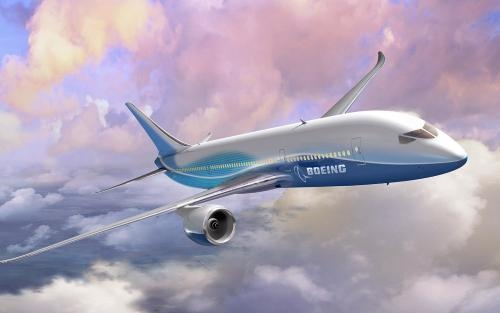airplane: (1, 48, 467, 264)
